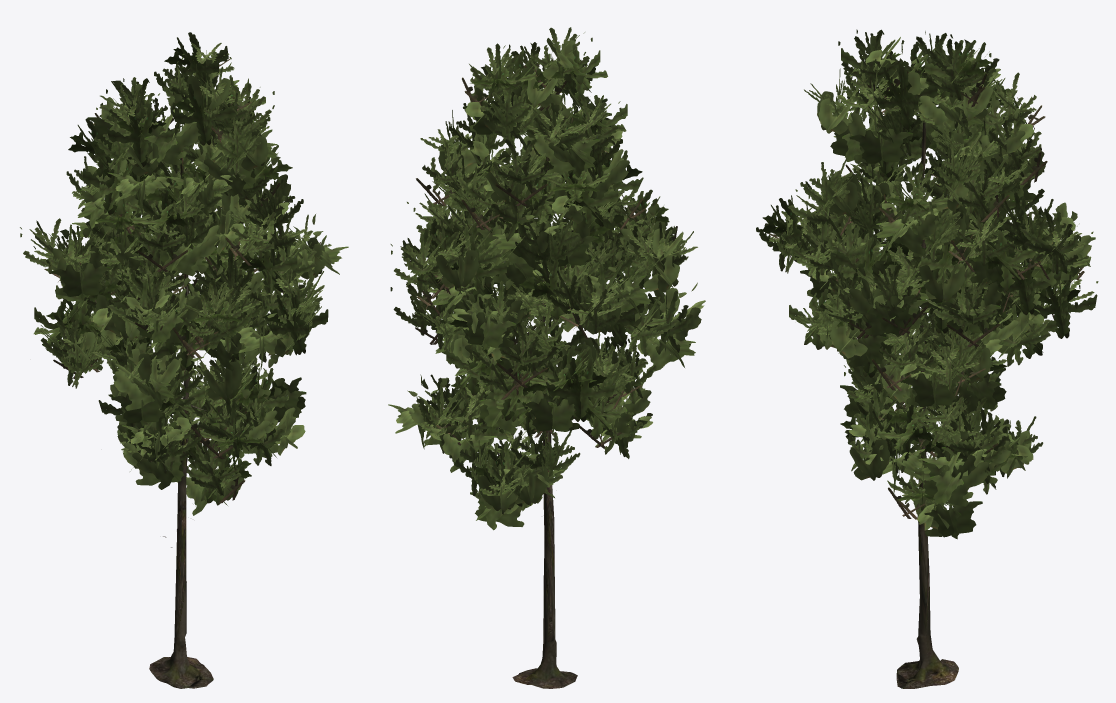
File: conifer-tree-lod2.glb
The picture shows the model from 3 angles, left to right: view 1: azimuth 30°, elevation 25°; view 2: azimuth 150°, elevation 25°; view 3: azimuth 270°, elevation 25°; orthographic projection. The views are drawn at different scales.
Visible parts, largest first — view 1: fir_tree_01_b_LOD0; view 2: fir_tree_01_b_LOD0; view 3: fir_tree_01_b_LOD0.
Part boxes in pixels (x1,y1,x2,y2): fir_tree_01_b_LOD0: [20, 32, 348, 688]; fir_tree_01_b_LOD0: [388, 27, 705, 688]; fir_tree_01_b_LOD0: [756, 29, 1098, 688].
Size of the model in its own units: 6.58 by 14.54 by 7.07.
4 materials, 4 textured.
